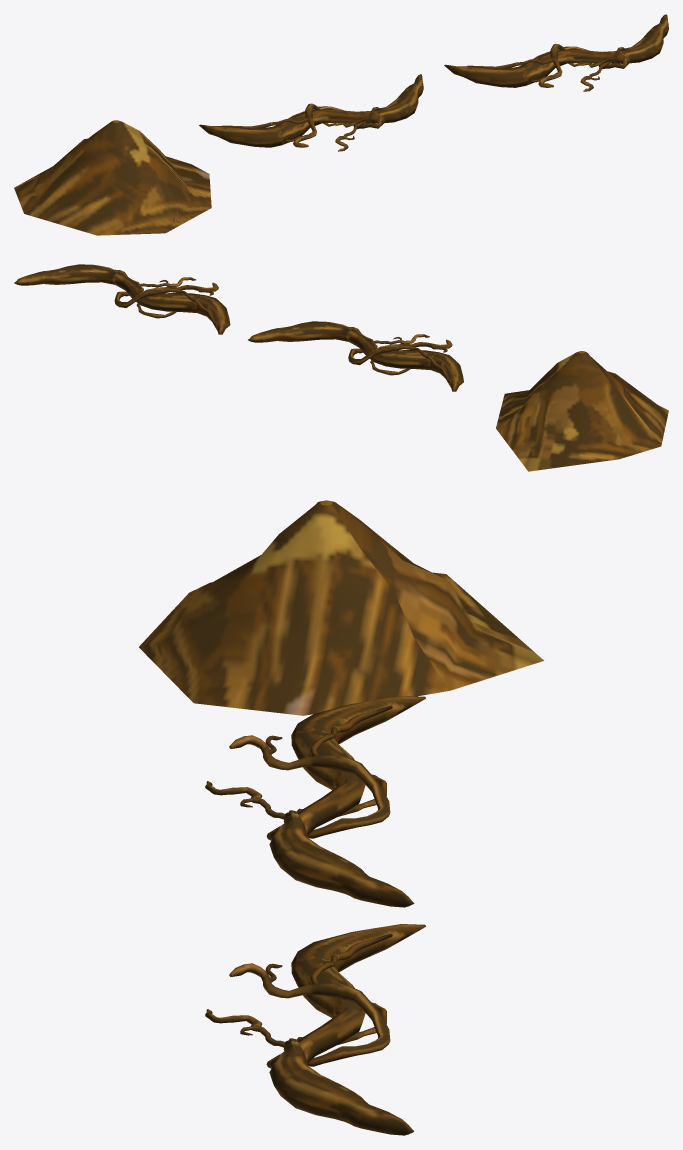
File: SM_OakRoot.fbx
3 renders of one model, top to bottom at view 1: azimuth 30°, elevation 25°; view 2: azimuth 150°, elevation 25°; view 3: azimuth 270°, elevation 25°, orthographic. The views are drawn at different scales.
Visible parts, largest first — view 1: OakRoot_Mushed, Oakroot_Whole, OakRoot_slice02, OakRoot_slice01, OakRoot_slice03; view 2: OakRoot_Mushed, Oakroot_Whole, OakRoot_slice02, OakRoot_slice03, OakRoot_slice01; view 3: OakRoot_Mushed, Oakroot_Whole, OakRoot_slice02, OakRoot_slice03, OakRoot_slice01.
Part boxes in pixels (x1,y1,x2,y2): OakRoot_Mushed: (14,120,211,235); Oakroot_Whole: (444,14,668,91); OakRoot_slice02: (270,103,380,151); OakRoot_slice01: (199,122,282,147); OakRoot_slice03: (375,74,423,125); OakRoot_Mushed: (496,351,668,471); Oakroot_Whole: (14,264,230,334); OakRoot_slice02: (348,327,452,375); OakRoot_slice03: (248,321,350,342); OakRoot_slice01: (429,352,463,391); OakRoot_Mushed: (139,500,543,715); Oakroot_Whole: (205,924,425,1135); OakRoot_slice02: (205,726,390,840); OakRoot_slice03: (269,814,414,907); OakRoot_slice01: (291,696,425,744).
Size of the model in its own units: 61.2 by 7.37 by 17.08.
Materials: 1 (1 with a texture image).
